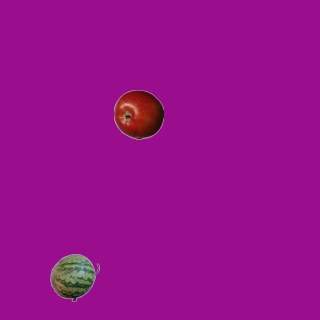Apple Braeburn: (113, 89, 163, 139)
Watermelon: (49, 252, 99, 302)
